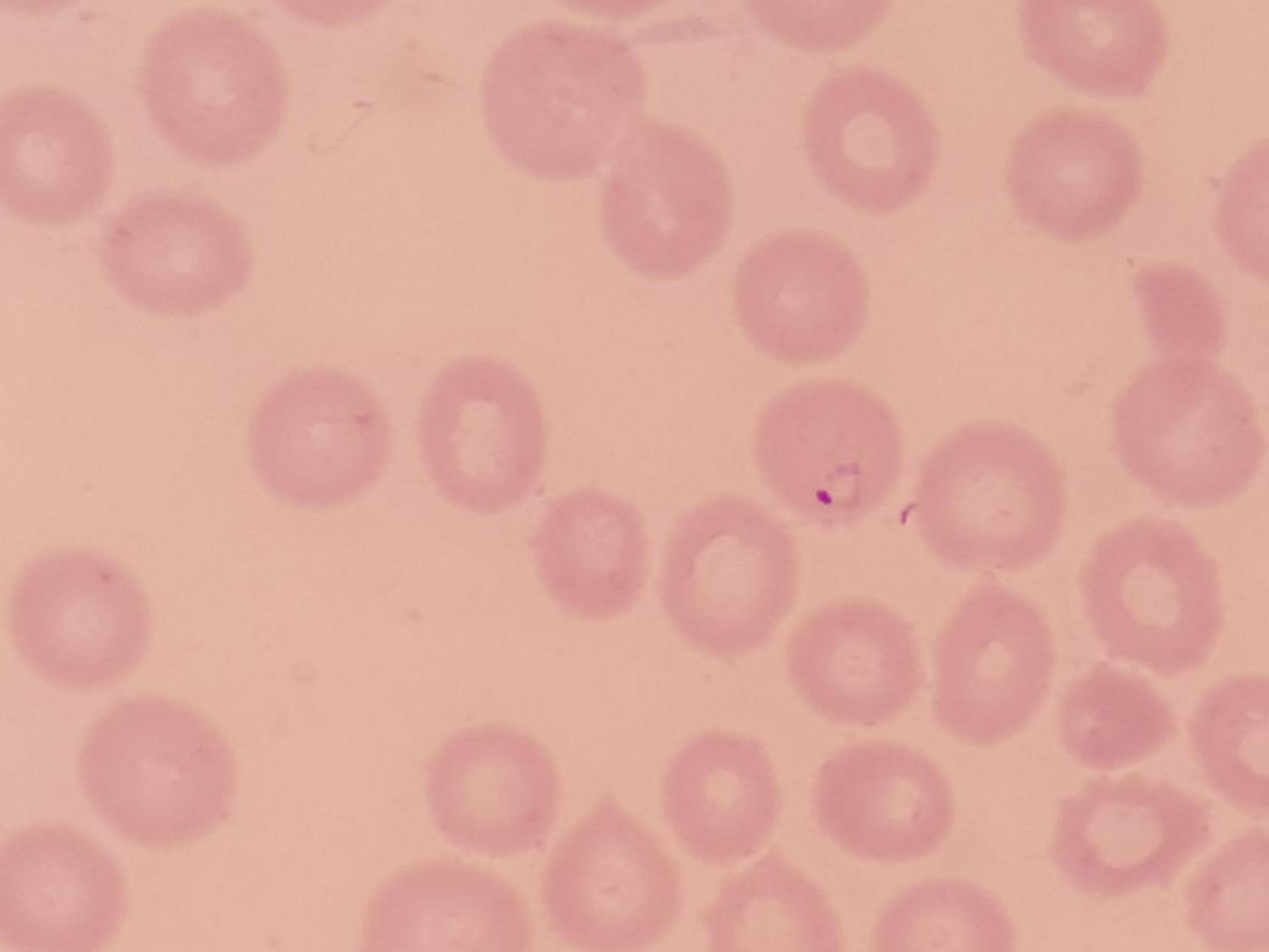Infected: (750, 377, 897, 521)
Uninfected: (479, 28, 641, 182), (139, 10, 286, 170), (79, 698, 233, 846), (1108, 358, 1258, 505), (924, 420, 1068, 573), (1079, 521, 1221, 672), (664, 498, 798, 653), (247, 365, 388, 507), (598, 125, 732, 273), (418, 356, 547, 507), (10, 548, 149, 688), (927, 589, 1056, 738), (802, 72, 939, 211), (542, 810, 677, 950), (1052, 772, 1203, 897), (102, 191, 248, 314), (424, 723, 557, 854), (787, 600, 919, 727), (734, 230, 865, 356), (812, 740, 948, 861), (1007, 109, 1137, 235), (661, 731, 779, 861), (0, 825, 120, 948), (531, 490, 648, 616), (365, 862, 525, 951), (1, 90, 110, 218), (1023, 1, 1161, 94), (704, 860, 842, 951), (1056, 664, 1171, 772)
